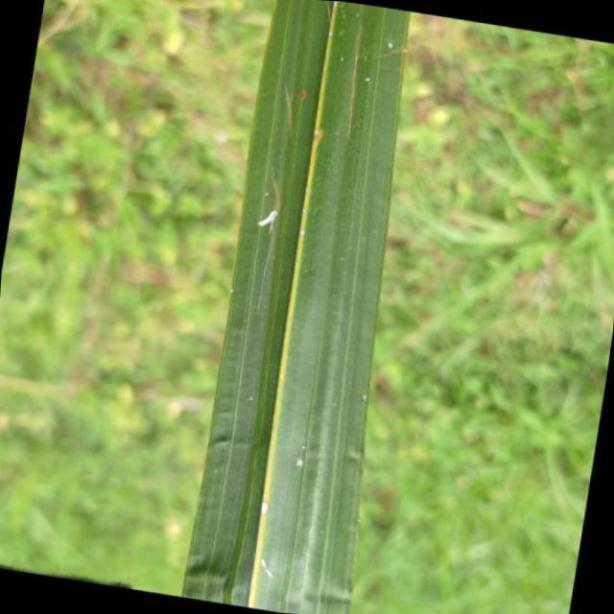Boron: (184, 5, 406, 614)
